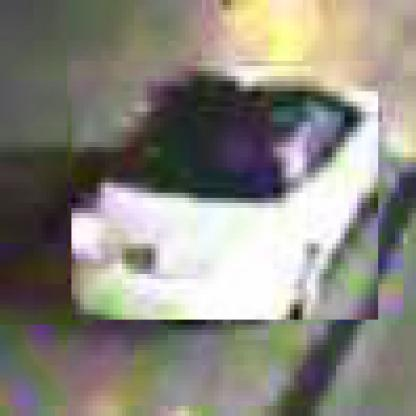car: (73, 62, 384, 326)
